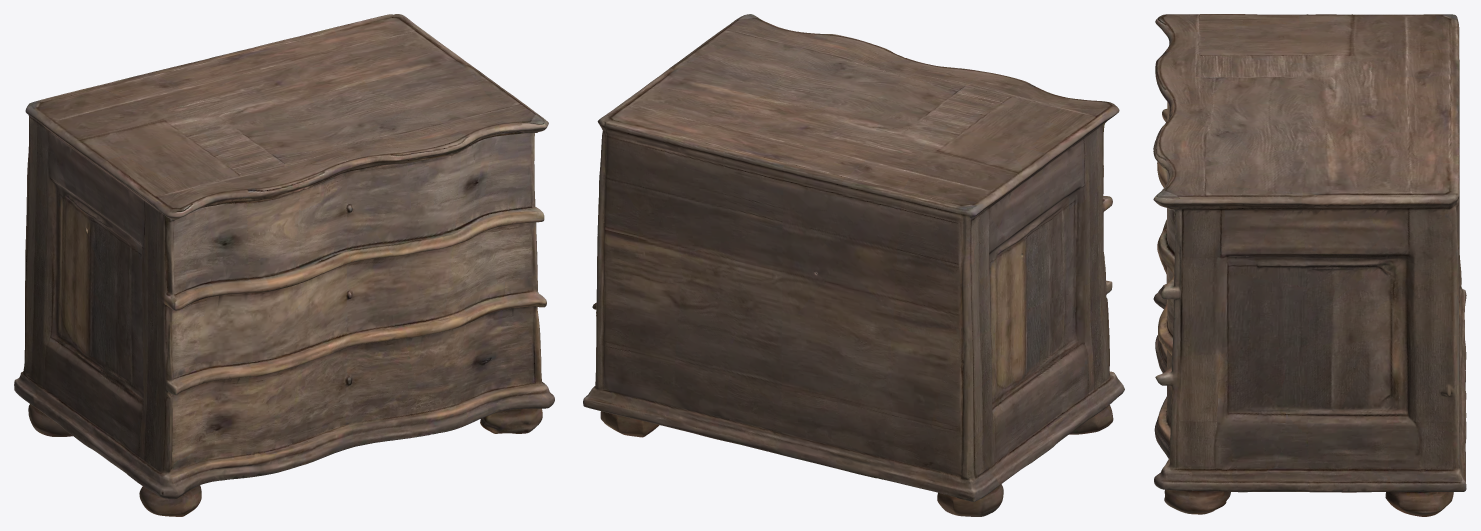
3 renders of one model, left to right at view 1: azimuth 30°, elevation 25°; view 2: azimuth 150°, elevation 25°; view 3: azimuth 270°, elevation 25°, orthographic.
Visible parts, largest first — view 1: Mesh_0; view 2: Mesh_0; view 3: Mesh_0.
Part boxes in pixels (box(x1,y1,x2,y2)): Mesh_0: box(14, 14, 554, 516); Mesh_0: box(583, 14, 1124, 516); Mesh_0: box(1153, 14, 1466, 516).
Bounding box in the file's own units: 1.99 × 1.53 × 1.35.
Materials: 1 (1 with a texture image).
